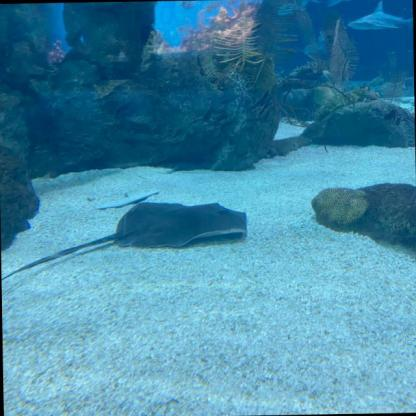fish: (302, 33, 357, 55), (277, 0, 322, 16), (324, 0, 362, 8)
shark: (344, 0, 414, 31)
stingray: (113, 198, 249, 250)
